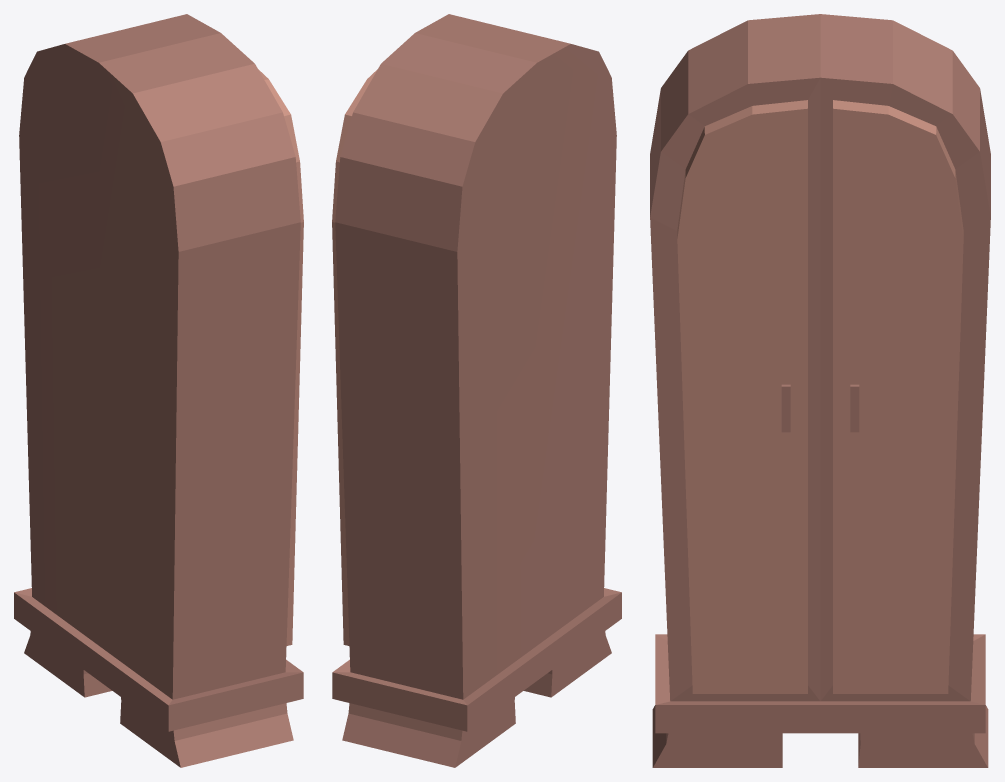
File: Closet.glb
The picture shows the model from 3 angles, left to right: view 1: azimuth 30°, elevation 25°; view 2: azimuth 150°, elevation 25°; view 3: azimuth 270°, elevation 25°; orthographic projection. The views are drawn at different scales.
Parts seen in each view (by area): view 1: DarkWood, Wood.002; view 2: DarkWood, Wood.002; view 3: Wood.002, DarkWood.
Boxes of the visible parts, <box> form: DarkWood: <box>14,14,303,767</box>; Wood.002: <box>258,69,303,645</box>; DarkWood: <box>332,14,621,767</box>; Wood.002: <box>332,69,377,645</box>; Wood.002: <box>677,100,963,693</box>; DarkWood: <box>650,14,990,767</box>.
Size of the model in its own units: 0.3533 by 1.48 by 0.6605.
